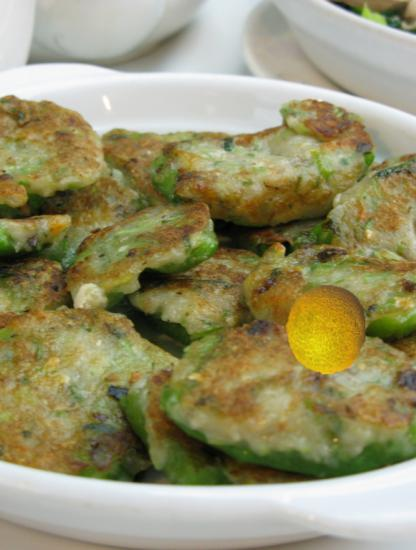Cantaloupe: (280, 285, 370, 375)
